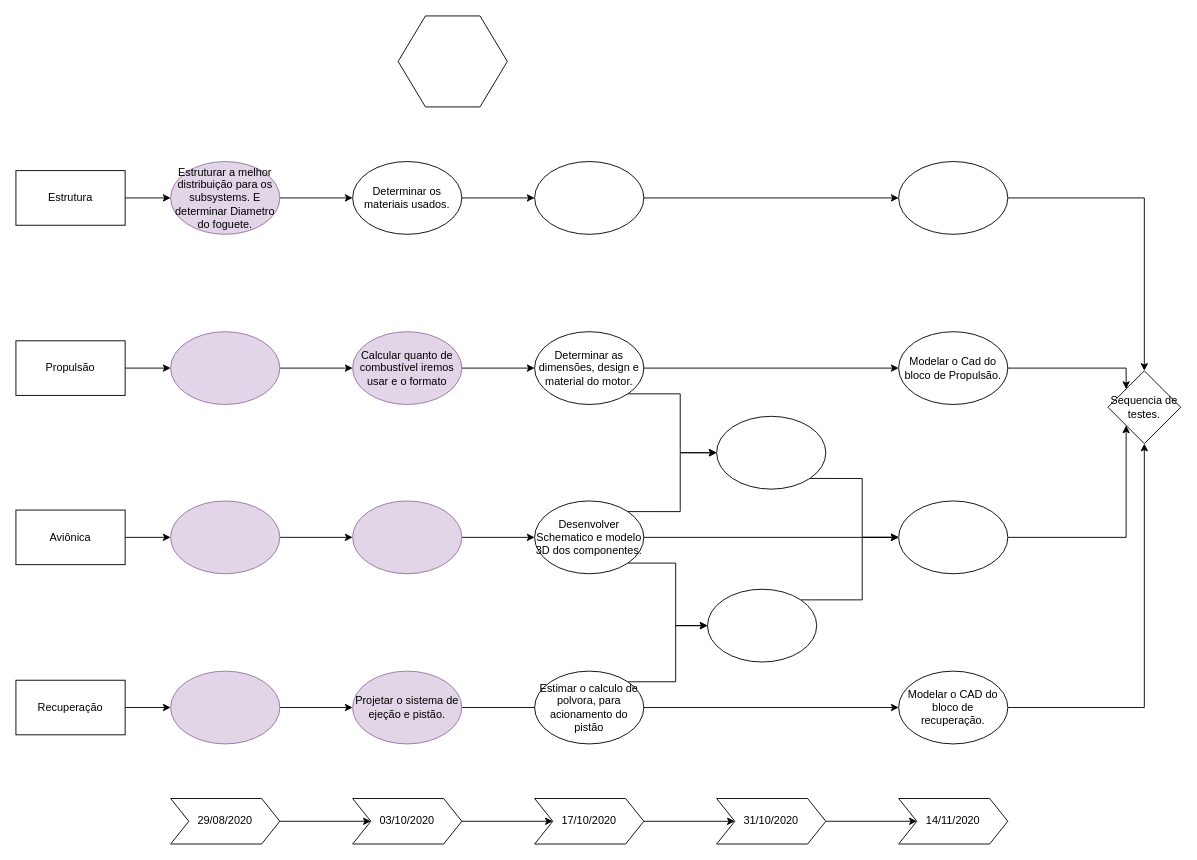
This 1197x860 diagram has some shape labels left out. Each missing label, with the centre of its shape:
Calcular as dimensões ideias do paraquedas.: the point at 225,707
Desenvolver o acionamento do sistema de ejeção do paraquedas.: the point at 762,625
Desenvolver o protótipo de sensores e medição.: the point at 407,537
Desenvolver sistema de ignição do motor.: the point at 771,452
Determinar quais grandezas serão medidas e quais sensores serão usados.: the point at 225,537
Determinar qual sera o combustível usado e como será implementado.: the point at 225,367
EVA-00: the point at 452,61
Modelar e projetar couplings (conector entre os tubos de subsistemas): the point at 589,197
Modelar o CAD da Fuselagem.: the point at 953,197
Modelar o CAD do bloco de aviônica.: the point at 953,537
